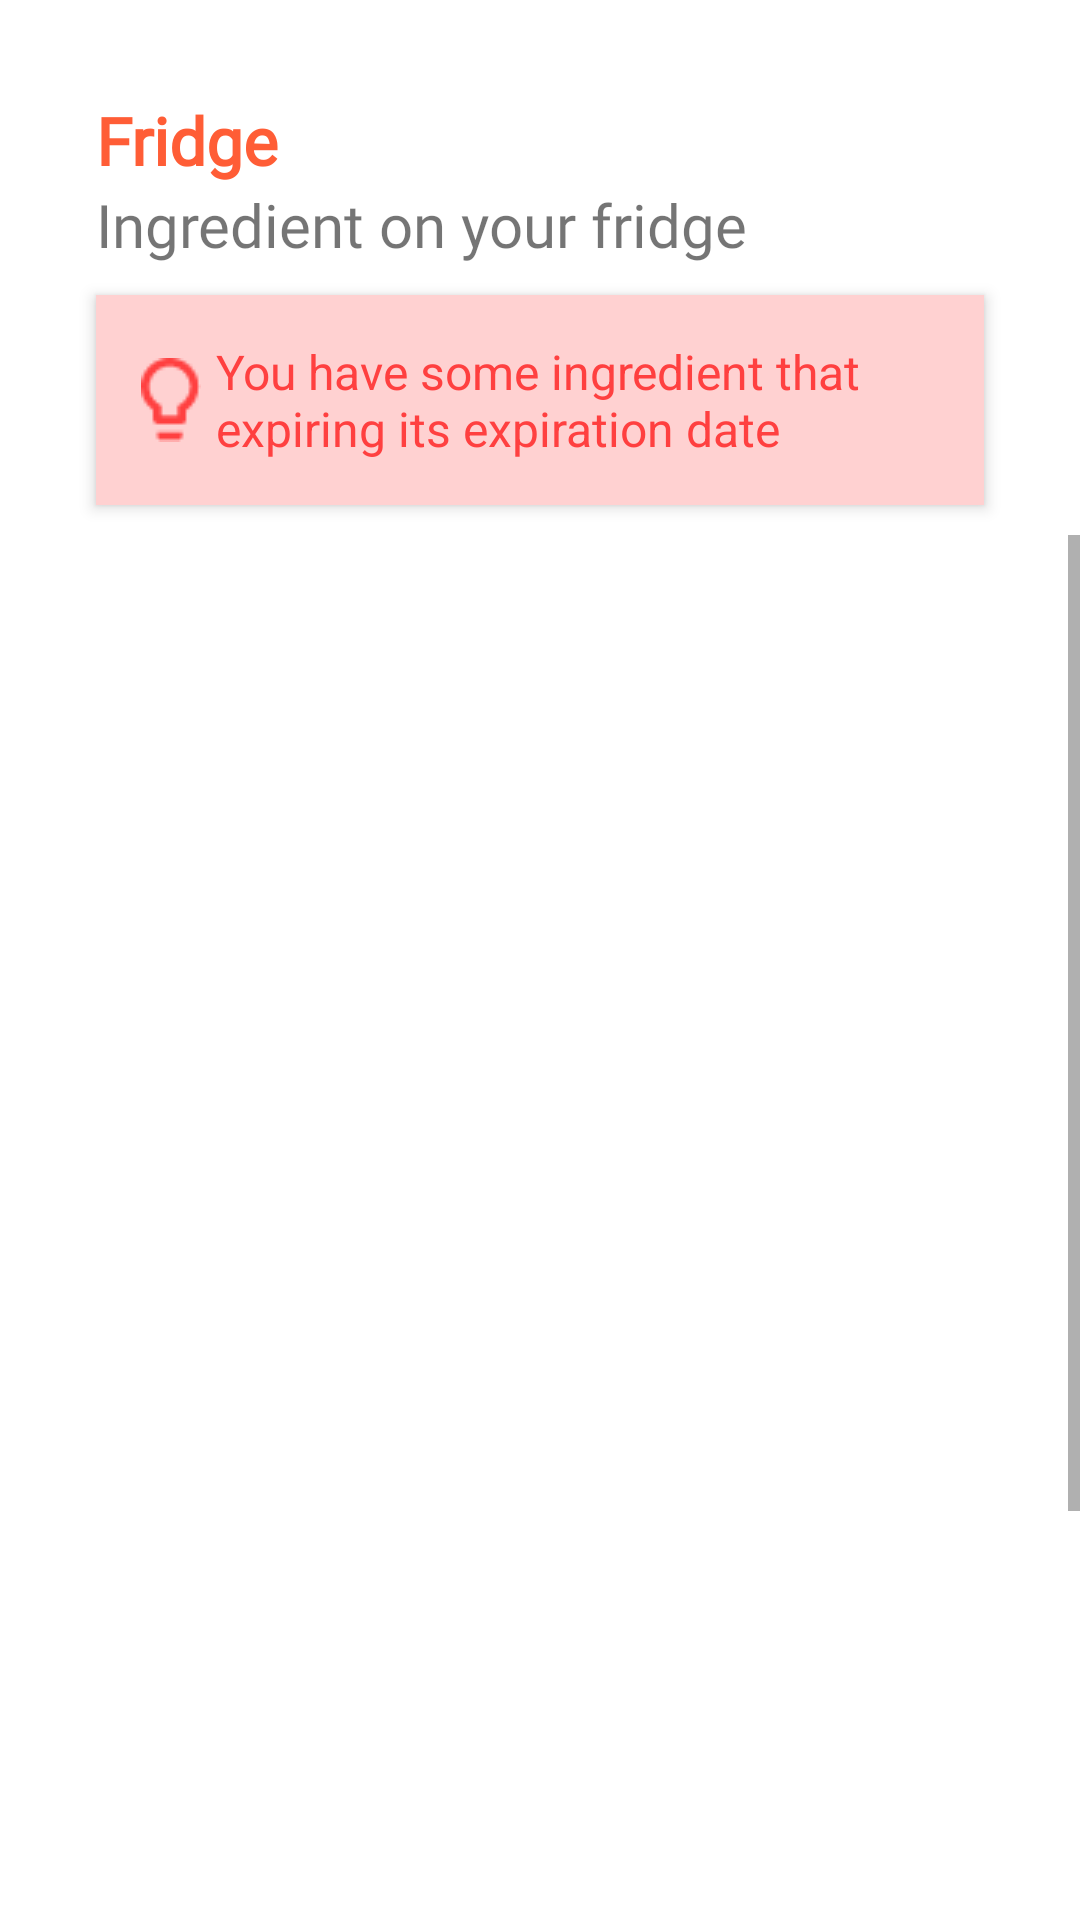

Named icons in this screenshot (1080 x 1920) and their centers, point (x, y):
redbulb: point (170, 400)
